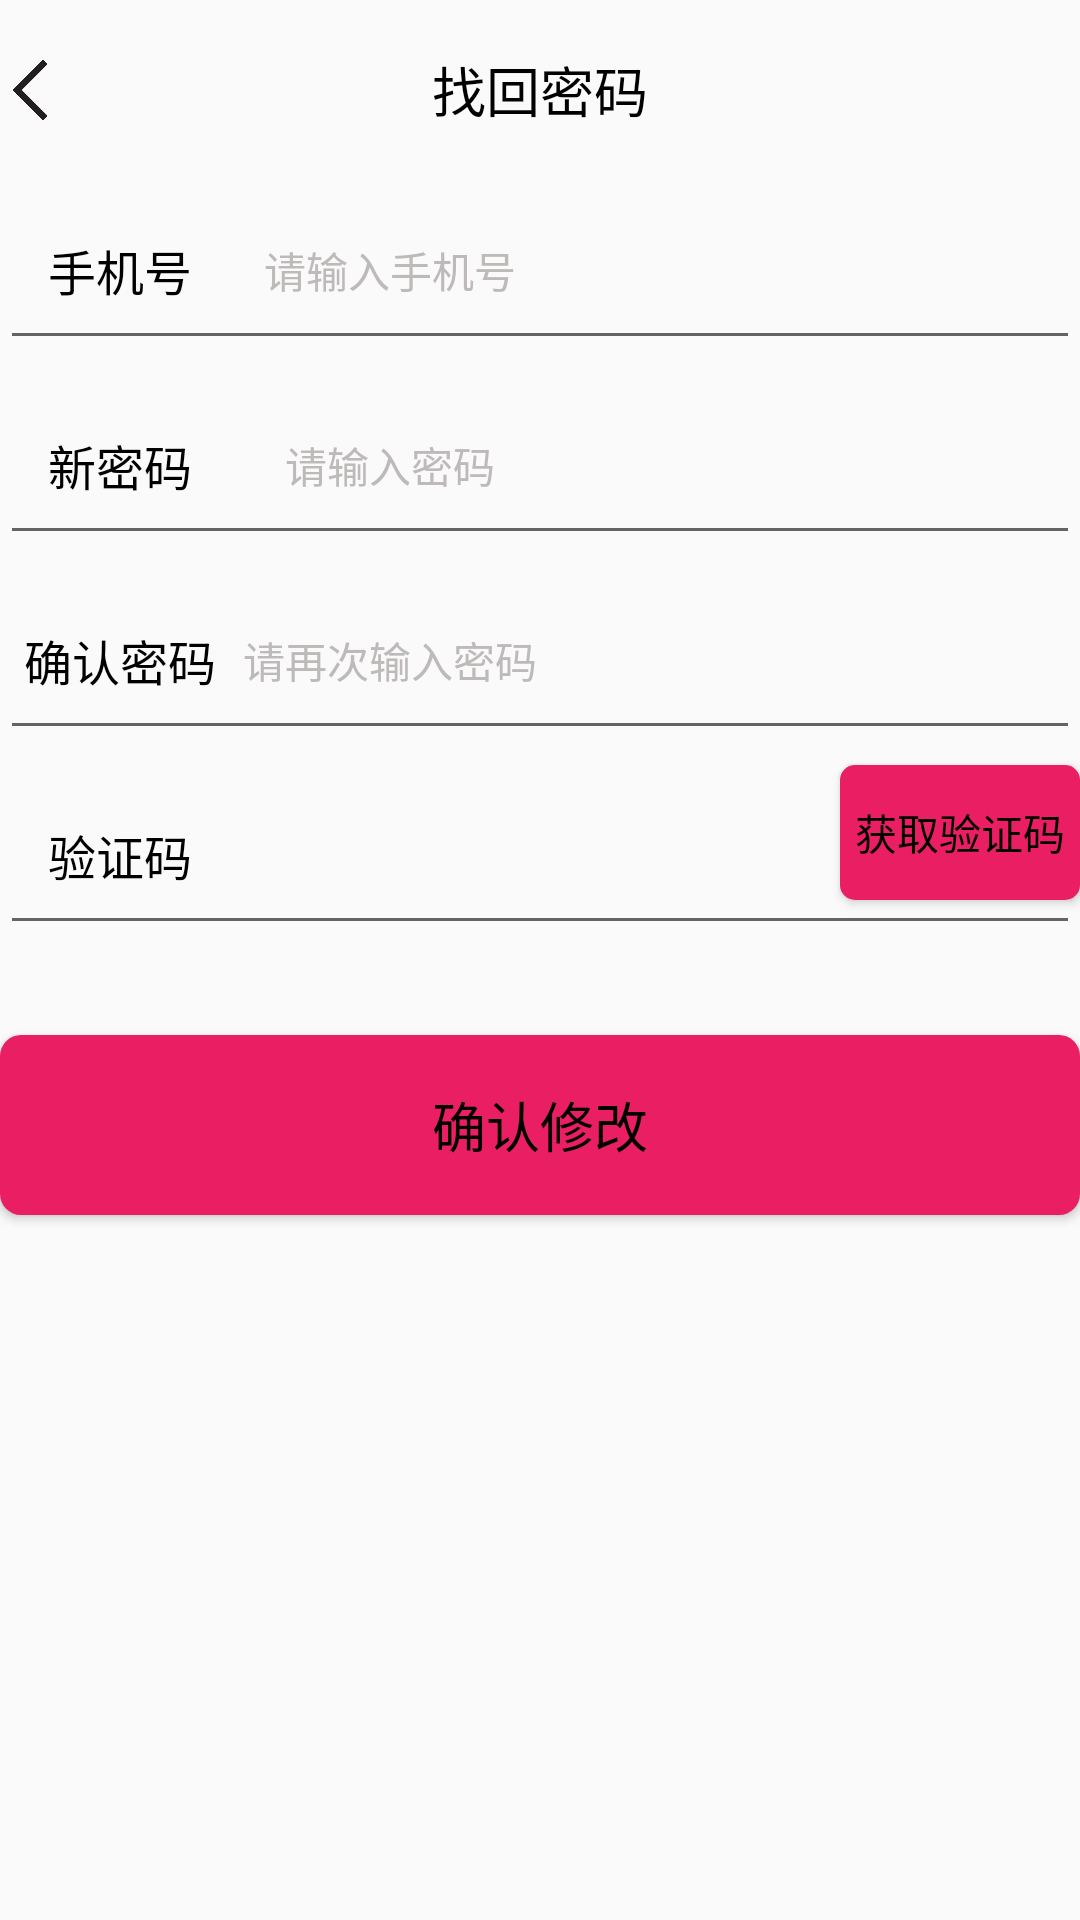

Where icons sit on this 1080w x 1920h app screen, as (x1, y1, x2, y2):
left: (13, 60, 47, 120)
